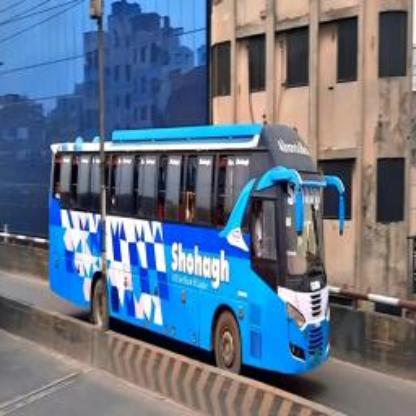bus: (46, 115, 348, 389)
